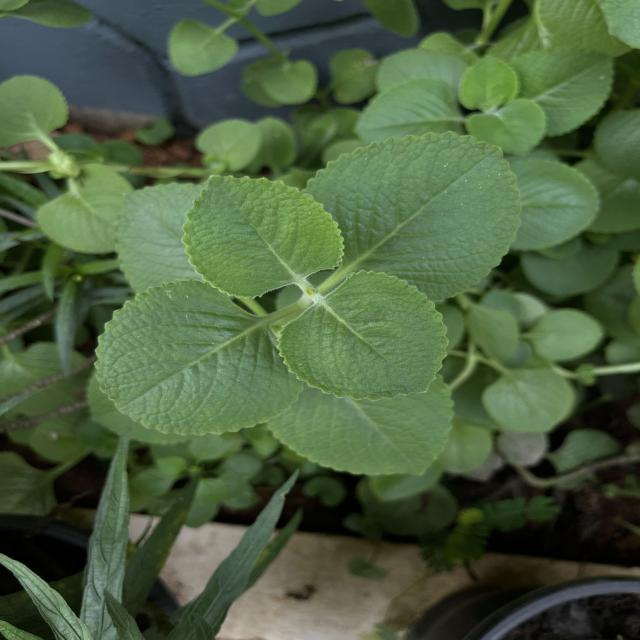Plectranthus barbatus: (301, 128, 526, 304), (92, 276, 307, 438), (276, 268, 451, 404), (179, 171, 347, 301), (511, 150, 604, 254)
